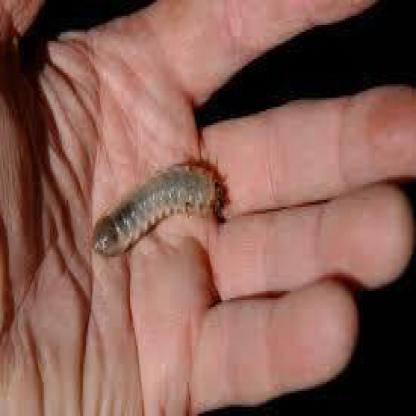root grubs: (93, 163, 226, 259)
